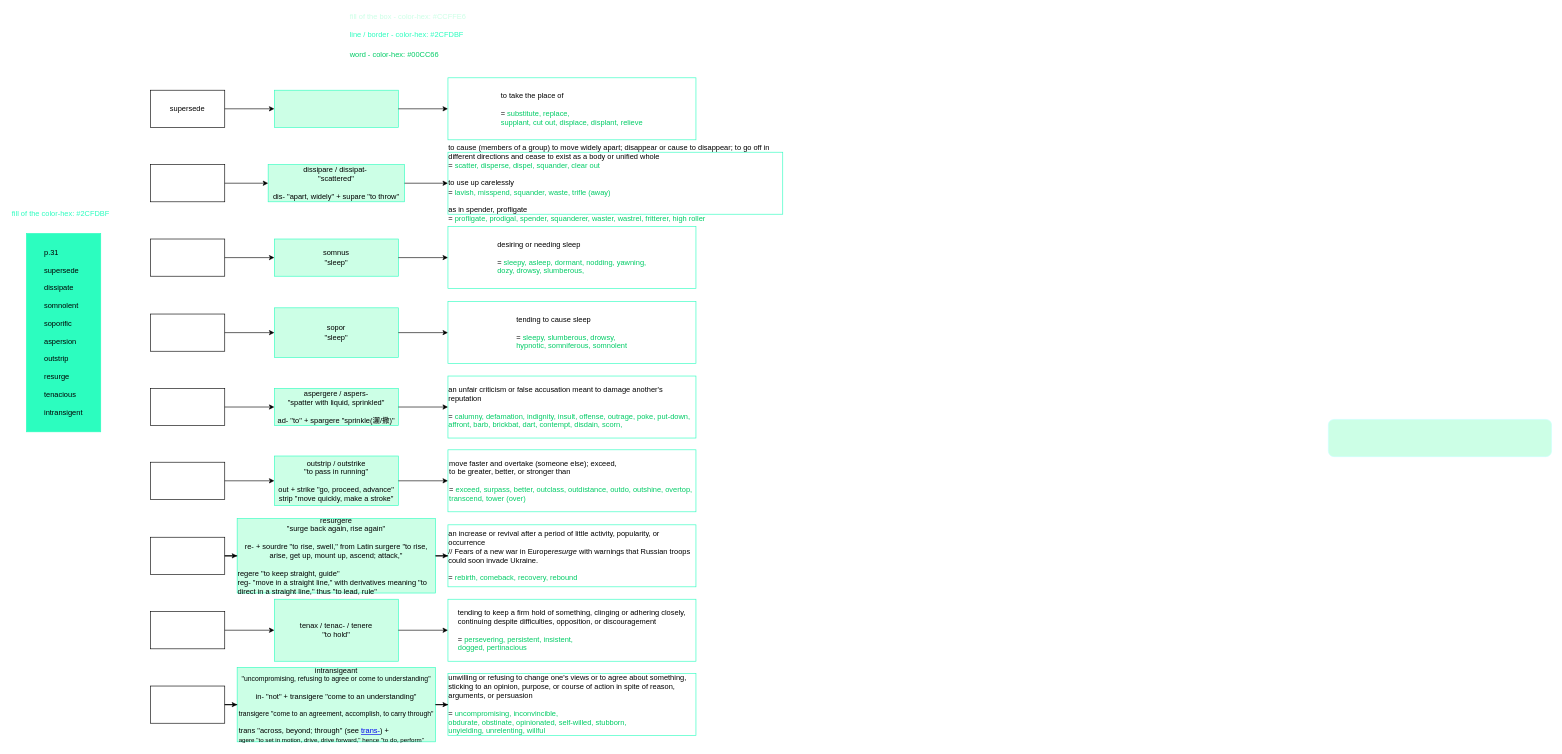
The diagram is 1562 pixels wide and 754 high, and some of its shapes have lost their labels. The box of each missing label's shape, as (x1, y1, x2, y2) in pixels:
aspersion: (150, 388, 225, 426)
dissipate: (150, 164, 225, 202)
intransigent: (150, 685, 225, 723)
log transformation: (1328, 419, 1552, 457)
outstrip: (150, 462, 225, 499)
resurge: (150, 537, 225, 574)
somnolent: (150, 238, 225, 276)
soporific: (150, 313, 225, 351)
supersedere "be superior to" super- "above" + sedere "sit": (274, 90, 398, 127)
tenacious: (150, 611, 225, 649)
